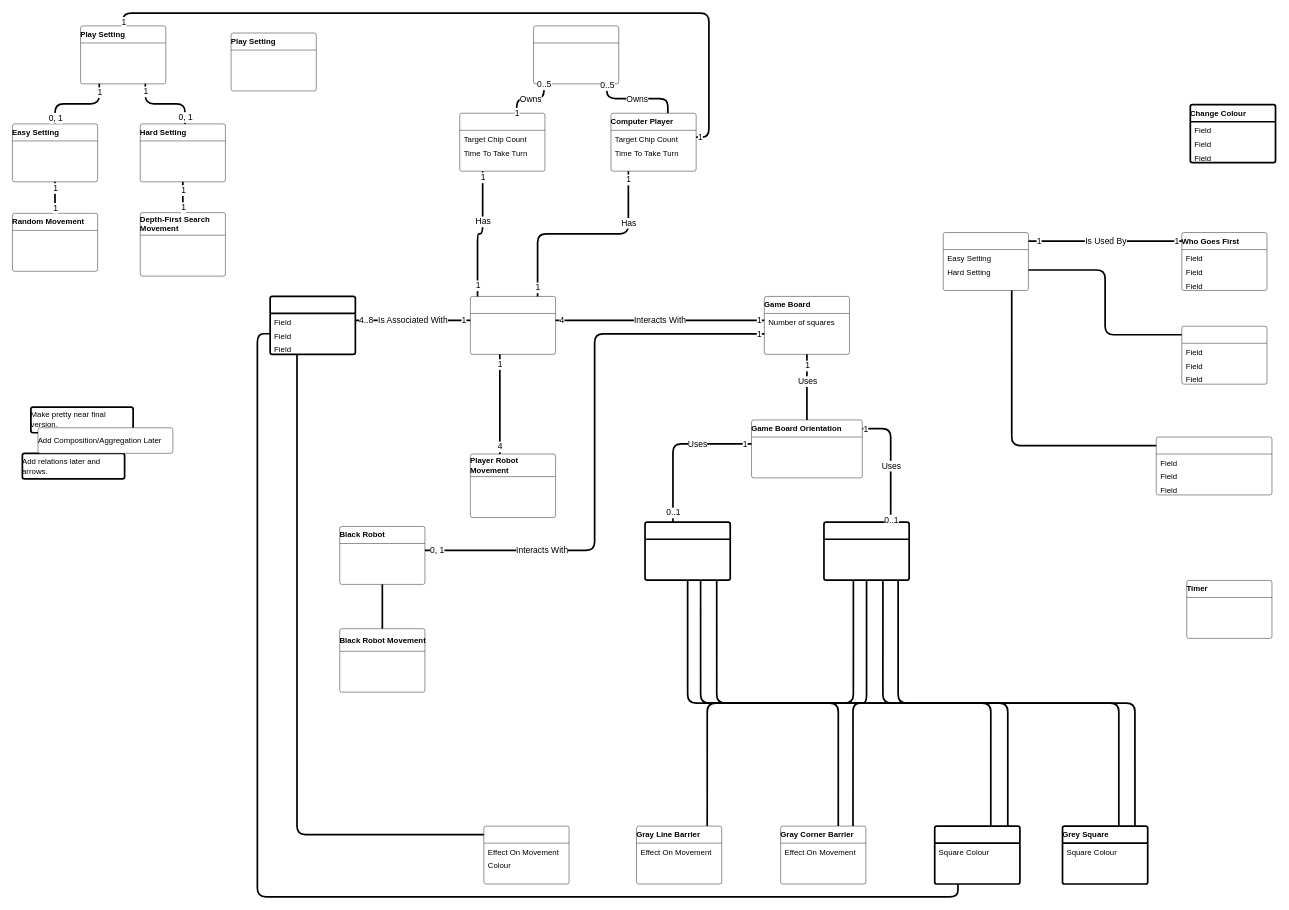
Some shapes in this 1289 by 910 pixel diagram are drawn without their labels. Here are the shapes that lost their labels. From the top down, the box of each, then its label:
(533, 25, 619, 84): Target Chip
(459, 113, 545, 171): Human Player
(943, 232, 1028, 290): GamePlay
(269, 295, 356, 355): Player Robot Colour
(470, 296, 555, 354): Player Robot
(1181, 326, 1267, 384): Taking Turn
(1156, 436, 1272, 495): Identify the Winner
(644, 521, 731, 581): Simple Orientation
(823, 521, 910, 581): Complex Orientation
(483, 826, 569, 884): Diagonal Barrier
(934, 825, 1020, 885): Robot Square
